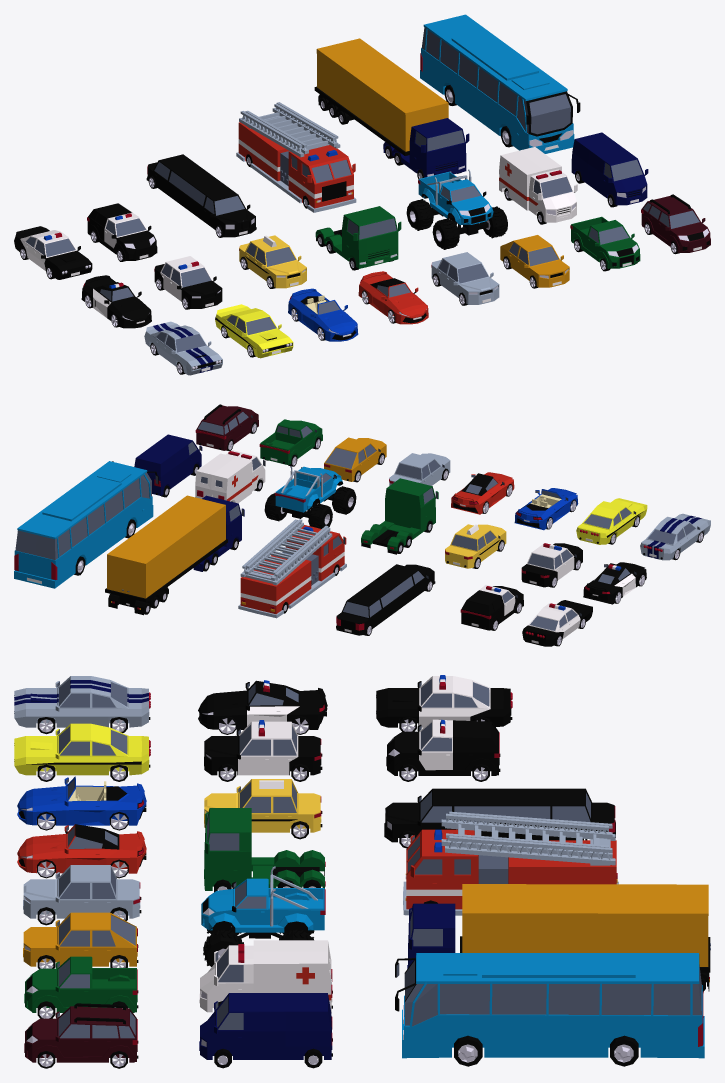
The model's file is All vehicles.glb.
The picture shows the model from 3 angles, top to bottom: view 1: azimuth 30°, elevation 25°; view 2: azimuth 150°, elevation 25°; view 3: azimuth 270°, elevation 25°; orthographic projection. The views are drawn at different scales.
Parts seen in each view (by area): view 1: All vehicles; view 2: All vehicles; view 3: All vehicles.
Part boxes in pixels (x1,y1,x2,y2): All vehicles: (14,14,710,375); All vehicles: (14,404,710,646); All vehicles: (14,675,710,1068).
Size of the model in its own units: 8.29 by 0.943 by 6.75.
